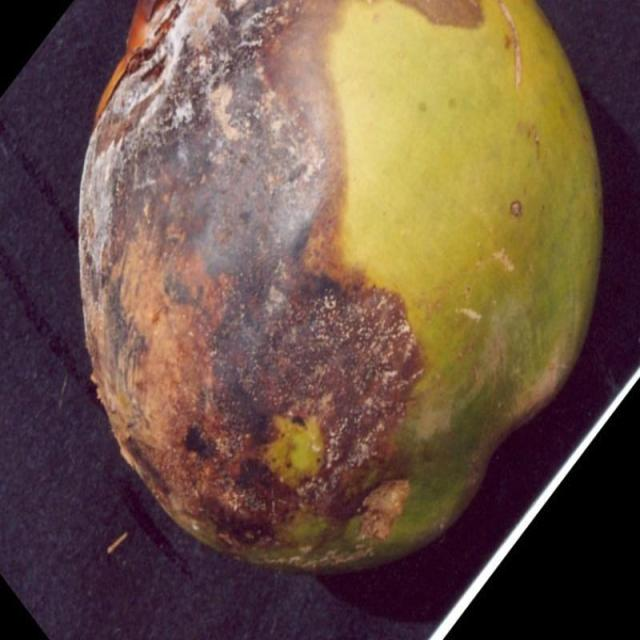damaged: (80, 0, 602, 569)
